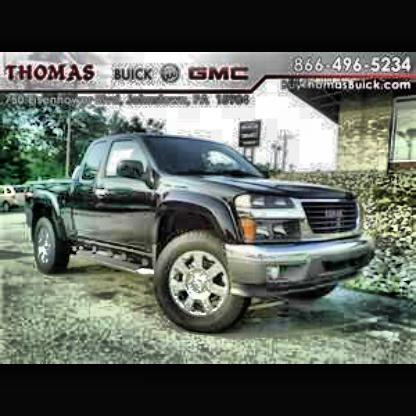GMC Canyon Extended Cab 2012: (17, 125, 381, 341)
